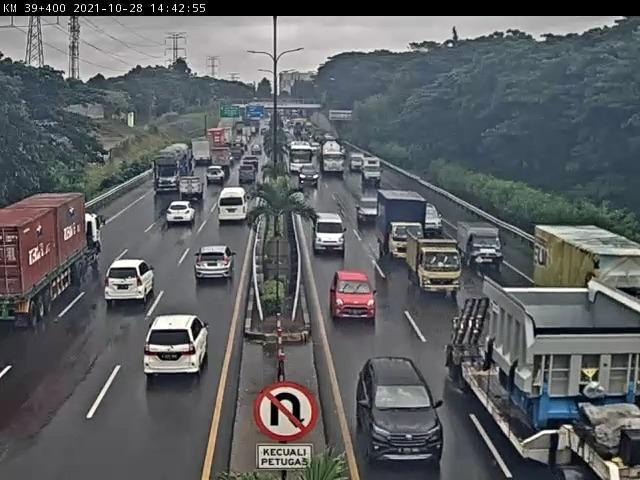car: (356, 358, 446, 473), (146, 315, 210, 379), (331, 270, 381, 326), (107, 258, 156, 305), (194, 247, 238, 284), (314, 211, 349, 257), (219, 188, 252, 223), (357, 197, 391, 227), (167, 201, 197, 227)
truck: (1, 195, 105, 326), (405, 229, 467, 298), (376, 188, 431, 263), (459, 222, 508, 270)
